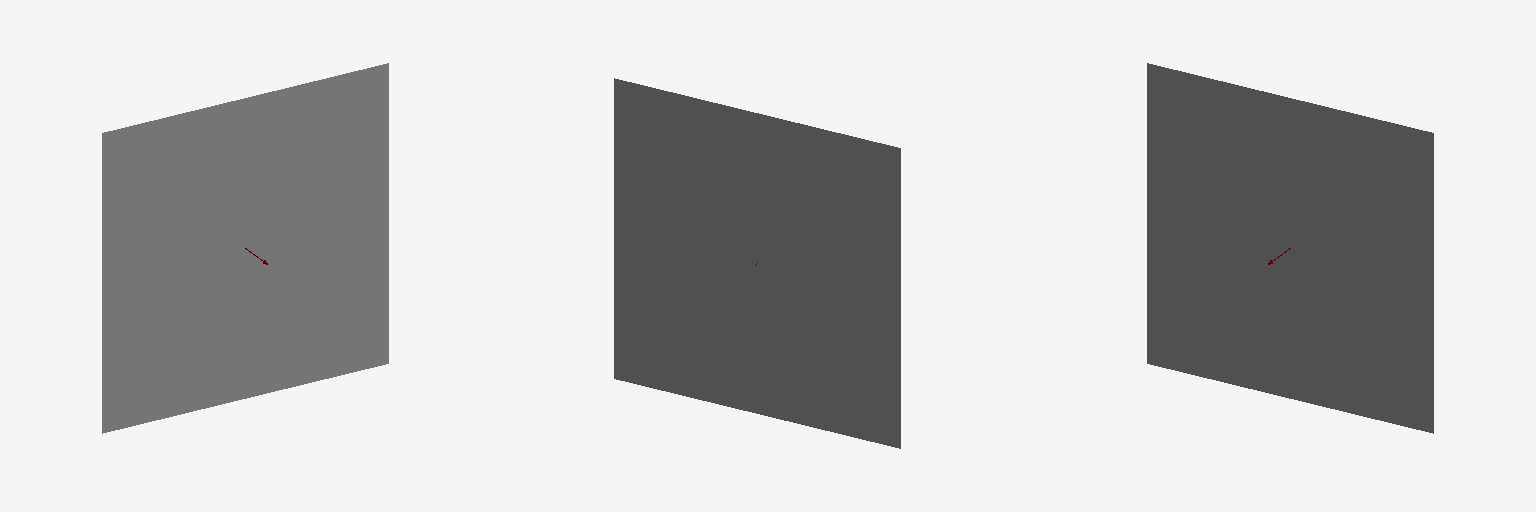
File: orbital_plane.obj
3 renders of one model, left to right at view 1: azimuth 30°, elevation 25°; view 2: azimuth 150°, elevation 25°; view 3: azimuth 330°, elevation 25°, orthographic.
Parts seen in each view (by area): view 1: Plane; view 2: Plane; view 3: Plane.
Boxes of the visible parts, box(x1,y1,x2,y2) form: Plane: box(102, 63, 388, 433); Plane: box(614, 78, 900, 448); Plane: box(1147, 63, 1433, 433).
Bounding box in the file's own units: 20 × 20 × 3.